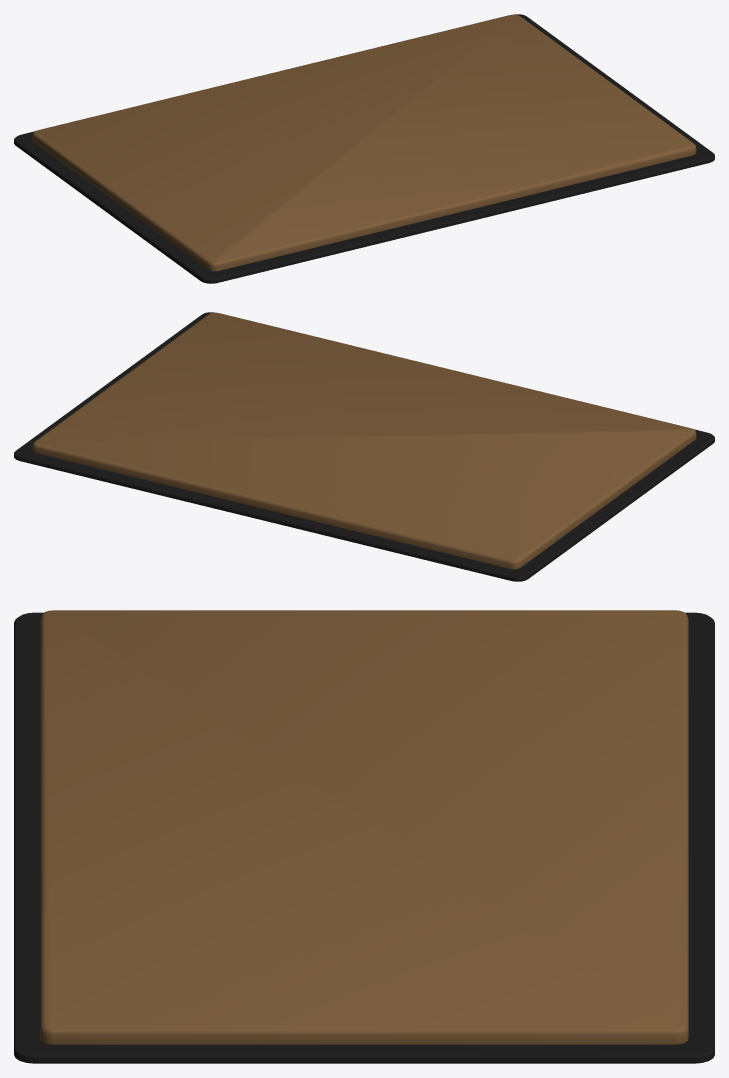
Rendered from doormat.glb.
3 renders of one model, top to bottom at view 1: azimuth 30°, elevation 25°; view 2: azimuth 150°, elevation 25°; view 3: azimuth 270°, elevation 25°, orthographic. The views are drawn at different scales.
Visible parts, largest first — view 1: doormat; view 2: doormat; view 3: doormat.
Boxes of the visible parts, <box> form: doormat: <box>14,14,714,283</box>; doormat: <box>14,312,714,581</box>; doormat: <box>14,610,714,1063</box>.
Size of the model in its own units: 0.6 by 0.014 by 0.4.
